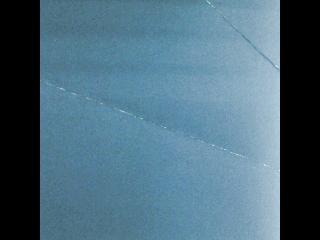crack: (40, 78, 280, 173), (205, 0, 279, 70)
